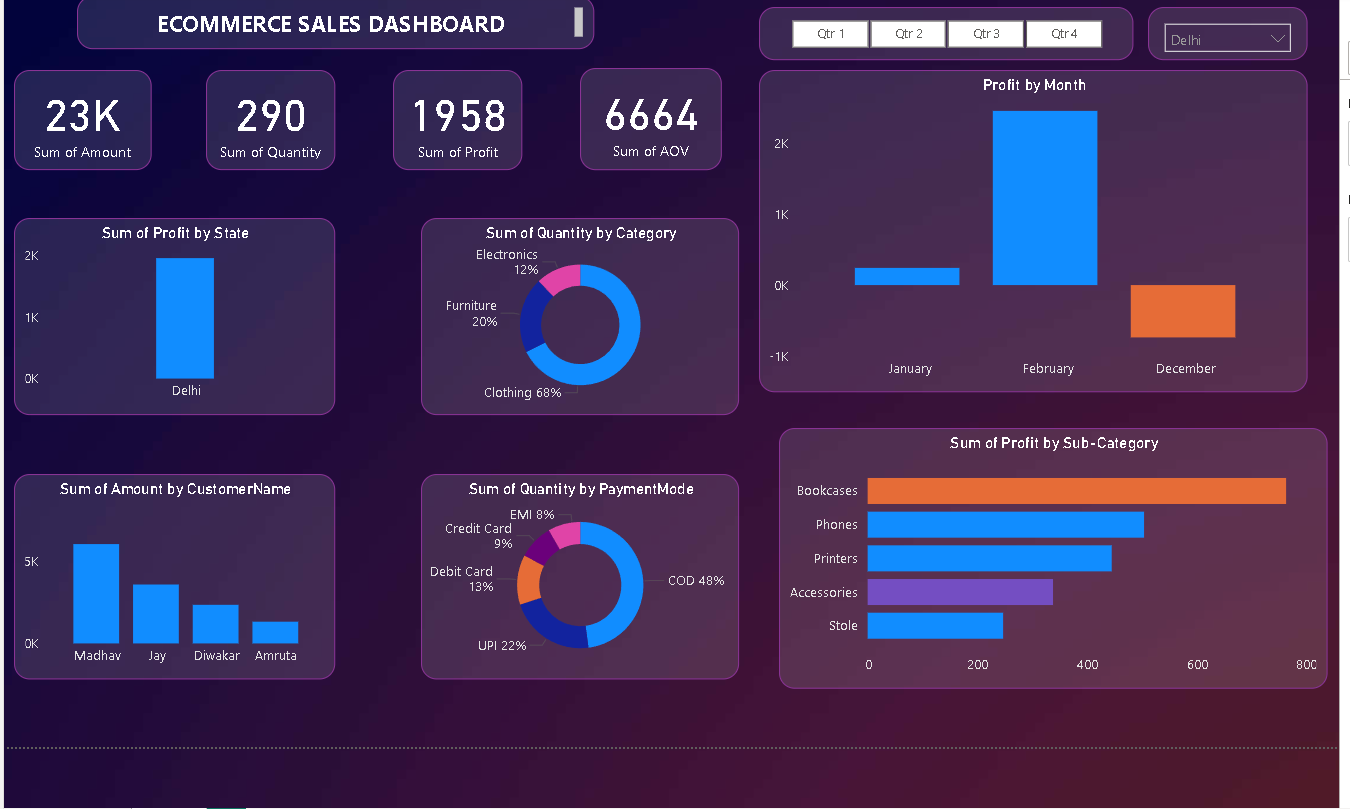

This screenshot's page, from the dashboard's own definition file:
{"tool":"powerbi","page":{"name":"Page 1","canvas":[1280,720],"ordinal":0},"visuals":[{"type":"textbox","box":[69.9,0,496.1,51],"z":0},{"type":"columnChart","title":"Profit by Month","fields":{"Y":["Details (1).Profit"],"Category":["Orders (1).Order Date.Variation.Date Hierarchy.Month"]},"box":[723.6,71,526.2,309.3],"z":1000},{"type":"barChart","fields":{"Category":["Details (1).Sub-Category"],"Y":["Details (1).Profit"]},"box":[743.3,413.7,525.7,249.9],"z":2000},{"type":"donutChart","fields":{"Category":["Details (1).Category"],"Y":["Details (1).Quantity"]},"box":[399.4,213.1,305.4,189],"z":3000},{"type":"donutChart","fields":{"Y":["Details (1).Quantity"],"Category":["Details (1).PaymentMode"]},"box":[399.4,458.5,305.4,197],"z":4000},{"type":"card","fields":{"Values":["Details (1).Amount"]},"box":[9.9,70.7,131.6,95.8],"z":5000},{"type":"card","fields":{"Values":["Details (1).Quantity"]},"box":[193.4,70.7,124.5,95.8],"z":6000},{"type":"card","fields":{"Values":["Details (1).Profit"]},"box":[373.4,70.7,124.5,95.8],"z":7000},{"type":"card","fields":{"Values":["Details (1).AOV"]},"box":[552.5,69,136.1,97.6],"z":8000},{"type":"columnChart","fields":{"Category":["Orders (1).State"],"Y":["Details (1).Profit"]},"box":[9.9,213.1,308.1,189],"z":9000},{"type":"columnChart","fields":{"Category":["Orders (1).CustomerName"],"Y":["Details (1).Amount"]},"box":[9.7,458.1,308.3,197.4],"z":10000},{"type":"slicer","fields":{"Values":["Orders (1).Order Date.Variation.Date Hierarchy.Quarter"]},"box":[723.6,10.7,358.9,50.6],"z":11000},{"type":"slicer","fields":{"Values":["Orders (1).State"]},"box":[1097.1,10.7,152.7,50.6],"z":11001}]}

Visuals, with their boxes in screenshot pixels (x1, y1, x2, y2):
textbox: bbox(65, 42, 600, 97)
"Profit by Month" columnChart: bbox(770, 119, 1337, 452)
barChart - Details (1).Sub-Category x Details (1).Profit: bbox(791, 488, 1349, 758)
donutChart - Details (1).Category x Details (1).Quantity: bbox(420, 272, 749, 476)
donutChart - Details (1).Quantity x Details (1).PaymentMode: bbox(420, 537, 749, 749)
card - Details (1).Amount: bbox(0, 118, 142, 222)
card - Details (1).Quantity: bbox(198, 118, 332, 222)
card - Details (1).Profit: bbox(392, 118, 526, 222)
card - Details (1).AOV: bbox(585, 117, 732, 222)
columnChart - Orders (1).State x Details (1).Profit: bbox(0, 272, 332, 476)
columnChart - Orders (1).CustomerName x Details (1).Amount: bbox(0, 536, 332, 749)
slicer - Orders (1).Order Date.Variation.Date Hierarchy.Quarter: bbox(770, 54, 1157, 108)
slicer - Orders (1).State: bbox(1172, 54, 1337, 108)
